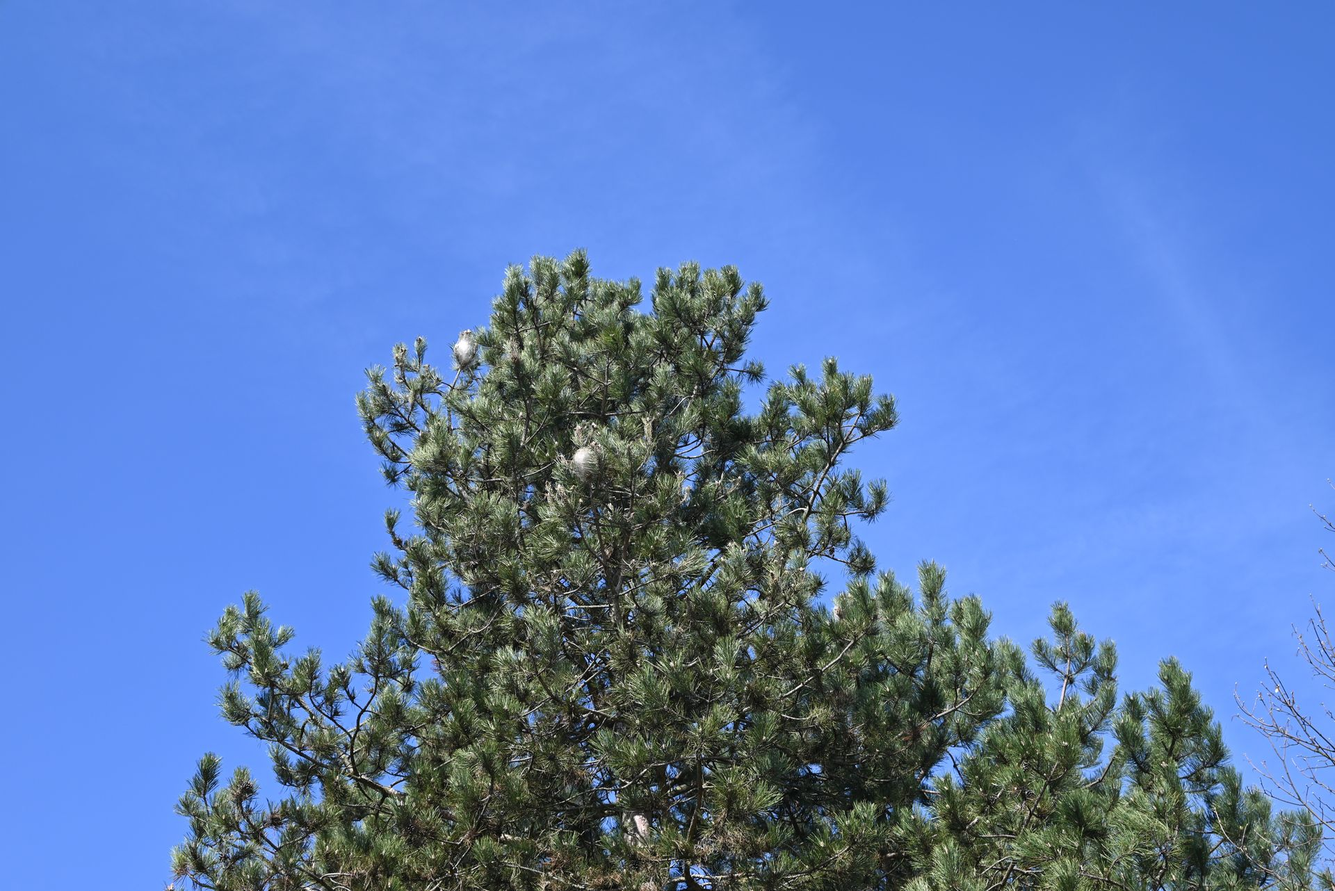thaumatopoea pityocampa jajno gnijezdo: (565, 448, 608, 482), (451, 330, 482, 372)
